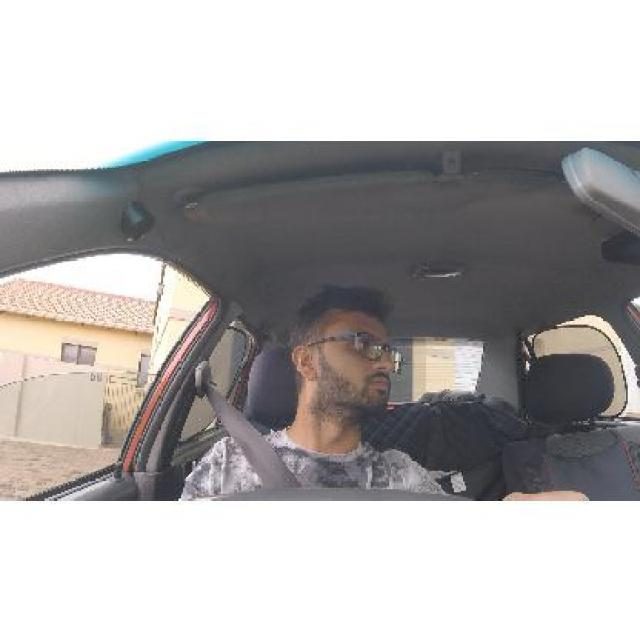LeftRight: (278, 286, 404, 422)
